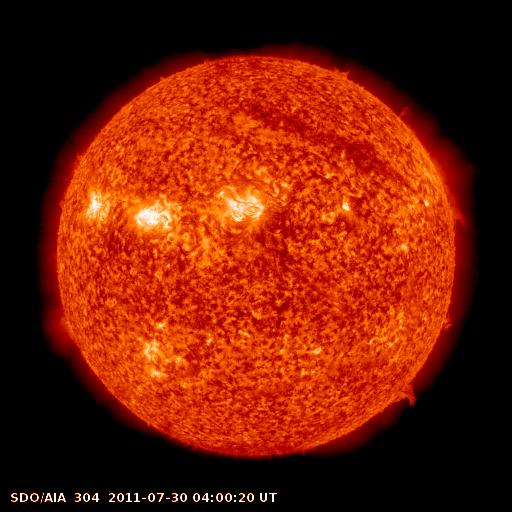prominence: (434, 171, 474, 232), (382, 374, 431, 415), (426, 307, 463, 338)
